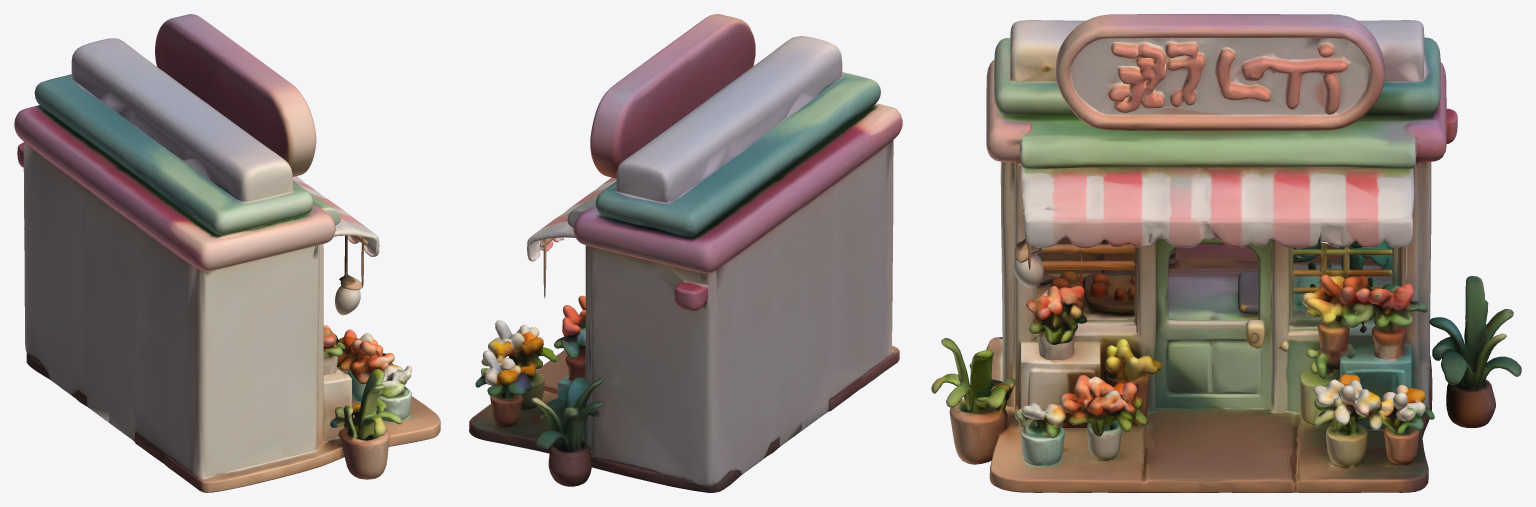
Rendered from building-florist.glb.
The picture shows the model from 3 angles, left to right: view 1: azimuth 30°, elevation 25°; view 2: azimuth 150°, elevation 25°; view 3: azimuth 270°, elevation 25°; orthographic projection. The views are drawn at different scales.
Visible parts, largest first — view 1: tripo_node_00d3d40e-f778-4b4e-9877-43c2a83c5792; view 2: tripo_node_00d3d40e-f778-4b4e-9877-43c2a83c5792; view 3: tripo_node_00d3d40e-f778-4b4e-9877-43c2a83c5792.
Boxes of the visible parts, x1=… form: tripo_node_00d3d40e-f778-4b4e-9877-43c2a83c5792: x1=14, y1=14, x2=440, y2=492; tripo_node_00d3d40e-f778-4b4e-9877-43c2a83c5792: x1=469, y1=14, x2=902, y2=492; tripo_node_00d3d40e-f778-4b4e-9877-43c2a83c5792: x1=931, y1=14, x2=1521, y2=492.
Bounding box in the file's own units: 3.82 × 5 × 6.32.
1 material, 1 textured.
